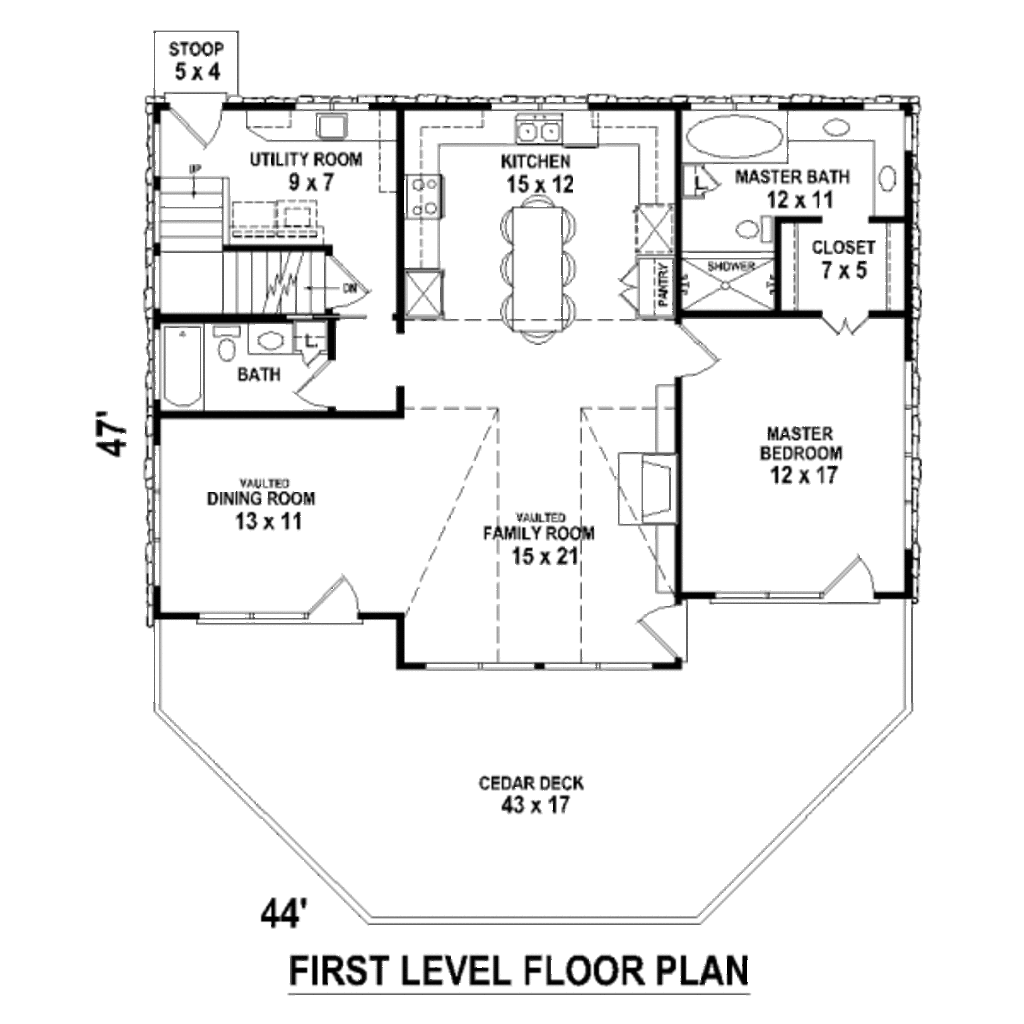door: (613, 595, 705, 662), (159, 73, 230, 155), (806, 552, 879, 606), (306, 570, 367, 632), (297, 358, 352, 419), (678, 320, 721, 382), (818, 298, 870, 344)
kitchen_bar: (495, 185, 583, 347)
large_sink: (733, 214, 779, 255), (211, 317, 238, 368)
small_sink: (789, 108, 916, 214), (248, 322, 291, 360)
stairs: (146, 168, 338, 319)
tub: (667, 97, 787, 170), (151, 324, 205, 417)
twin_sink: (506, 105, 576, 158)
window: (195, 598, 302, 627), (705, 585, 808, 605)
